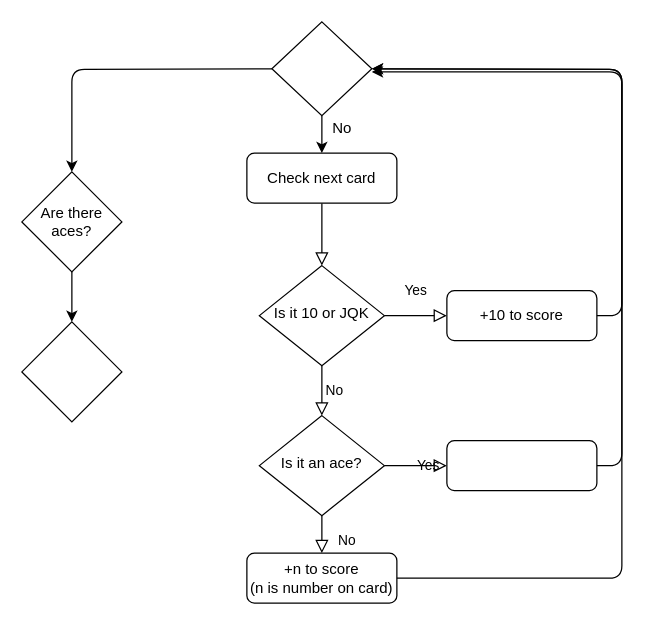
Image size: 654x625. Some labels were removed from this diagram. Here are the shapes that lost their labels. From the top down, the centre of each, then its label:
the point at 321,68: Last element?
the point at 71,371: If first ace = 11, is score > 21?
the point at 521,465: +1 to # of aces
